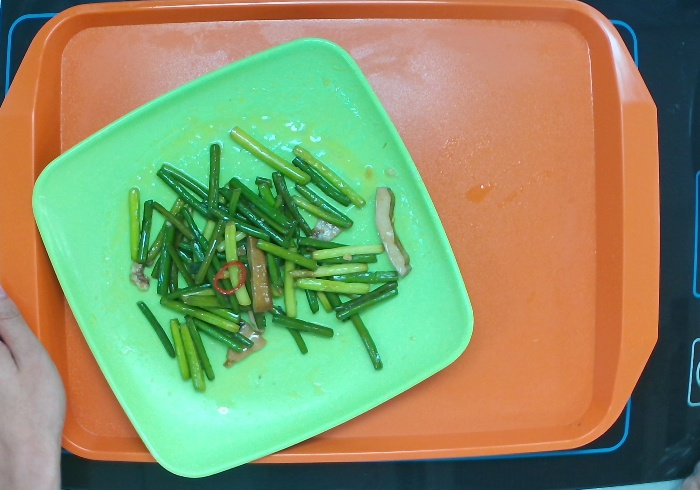ZNLD-Lv_Fang_Pan: (28, 29, 488, 483)
